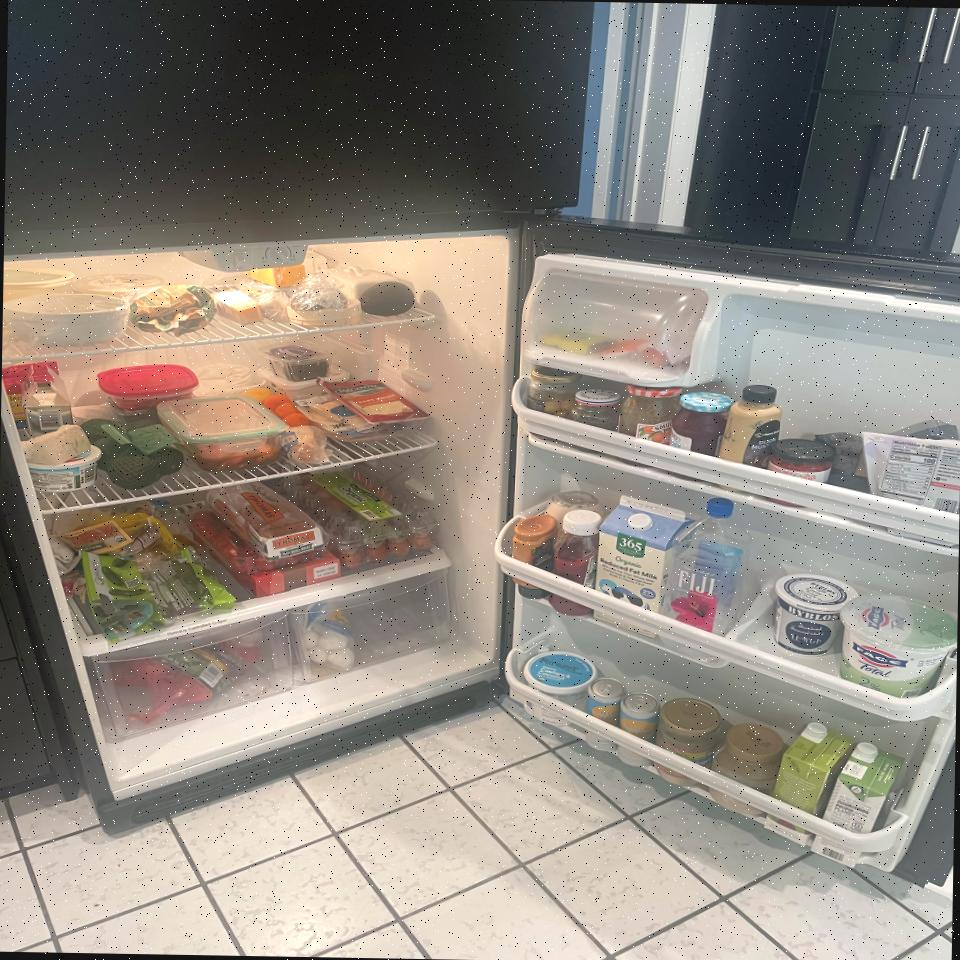Aguacate: (357, 281, 416, 317), (107, 452, 156, 490), (82, 418, 126, 443), (157, 447, 184, 475)
Huevos: (276, 460, 440, 556), (327, 530, 437, 572)
Leche: (598, 495, 697, 640)
Limón: (240, 387, 275, 404)
Queso: (315, 376, 433, 424), (310, 400, 384, 433), (210, 288, 264, 326), (250, 264, 308, 288)
Yogur: (830, 594, 958, 701), (769, 573, 861, 659)
